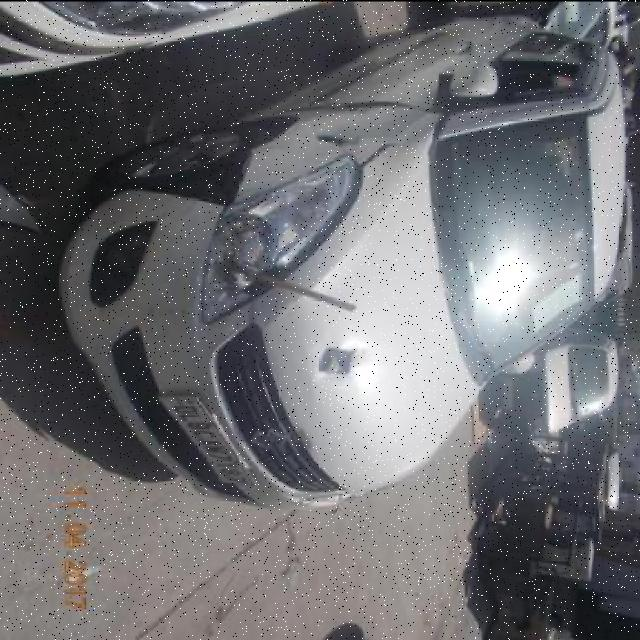damage: (196, 170, 366, 328), (131, 152, 250, 205), (266, 95, 416, 113), (312, 342, 362, 375), (309, 130, 360, 149)
